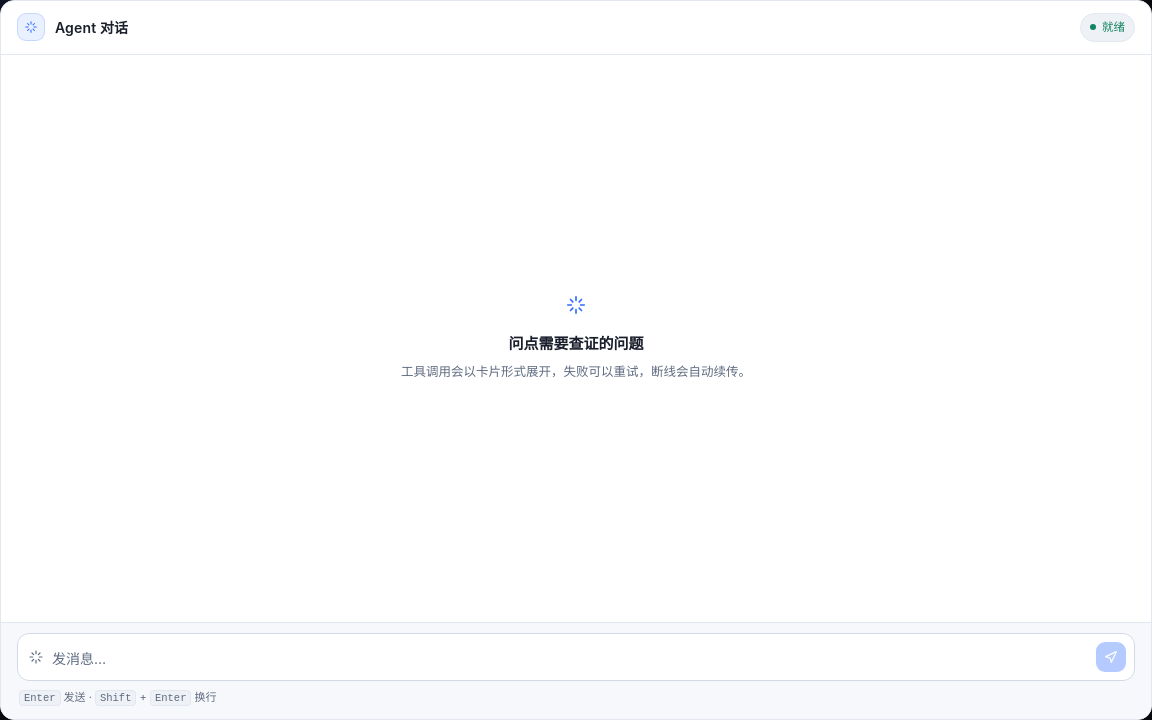
Scenario: AgentChat › 发送后先出现用户消息，再流式出现回答
This screenshot has width=1152, height=720.
Type "你好" into the text box named "输入消息" at coordinates (570, 659), box x1=52 y1=646 x2=1088 y2=672
Then press Enter
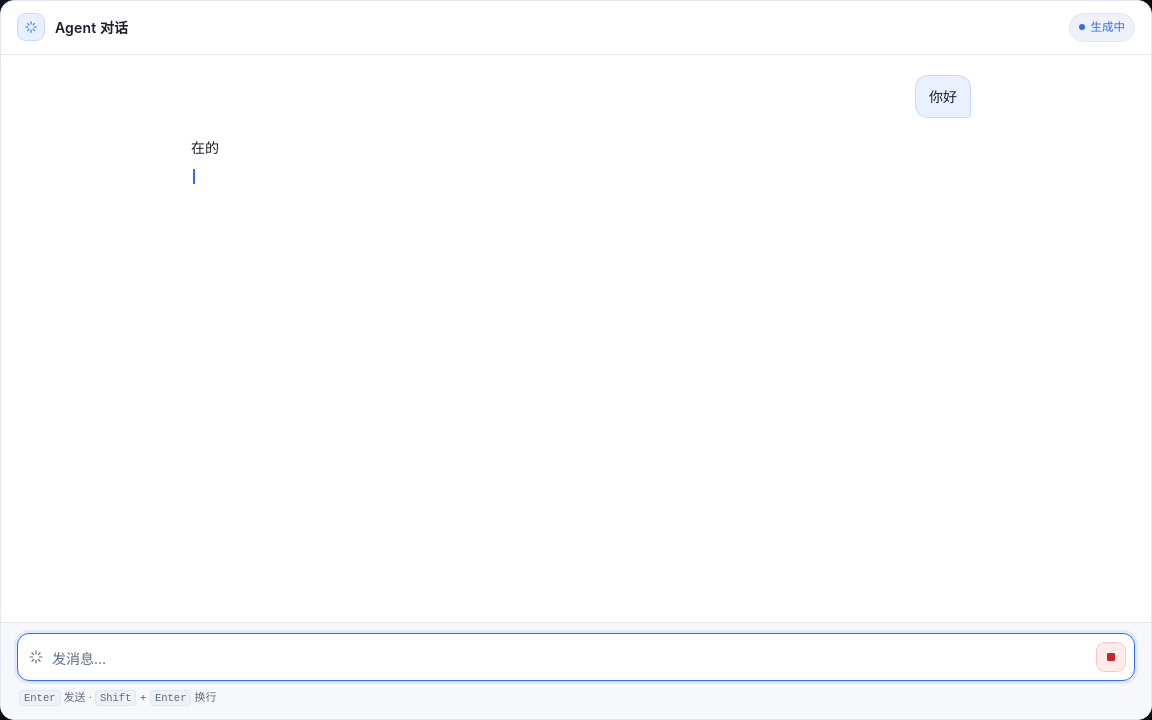
Now the element with test id "message-user" reads "你好", box x1=929 y1=88 x2=957 y2=105
Now the element with test id "message-live" reads "在的", box x1=191 y1=139 x2=219 y2=156
